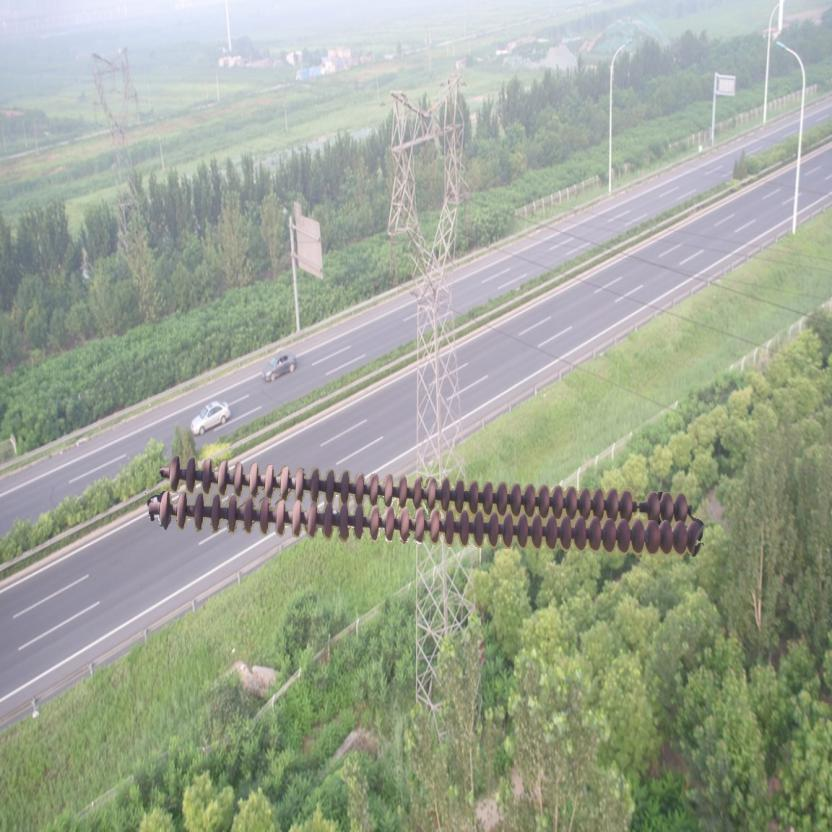defect: (619, 482, 661, 524)
